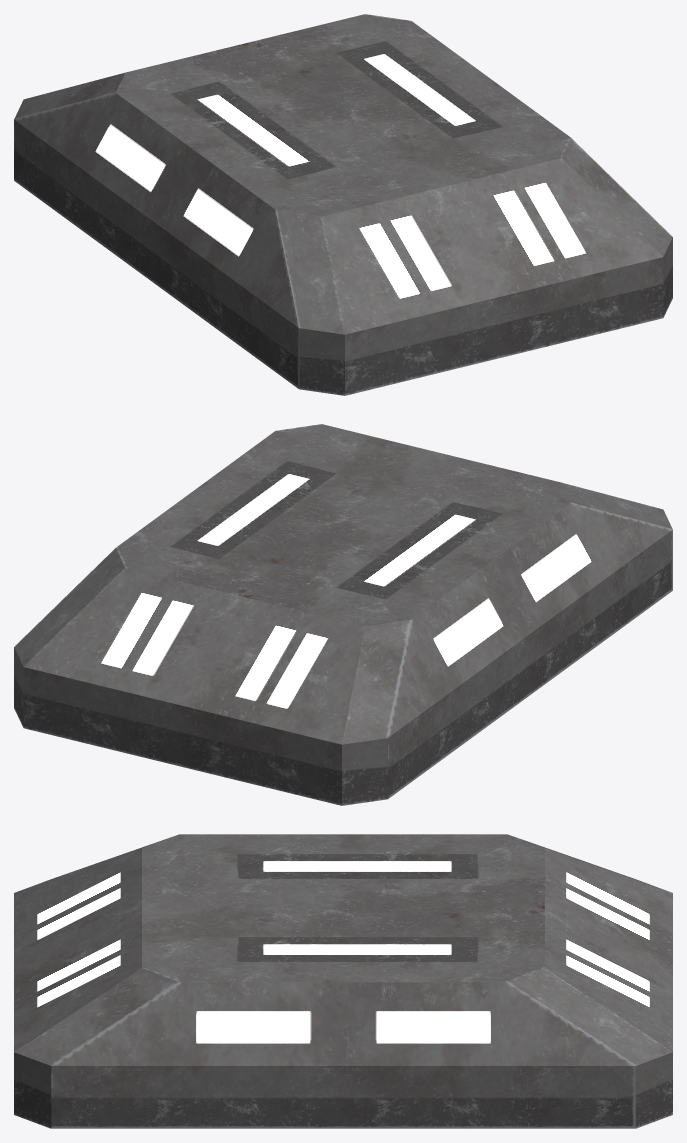
The model's file is platform_m_1.fbx.
The picture shows the model from 3 angles, top to bottom: view 1: azimuth 30°, elevation 25°; view 2: azimuth 150°, elevation 25°; view 3: azimuth 270°, elevation 25°; orthographic projection. The views are drawn at different scales.
Visible parts, largest first — view 1: platform_m_1; view 2: platform_m_1; view 3: platform_m_1.
Part boxes in pixels (<box>): platform_m_1: <box>14,14,672,395</box>; platform_m_1: <box>14,424,672,805</box>; platform_m_1: <box>14,834,672,1128</box>.
Bounding box in the file's own units: 9.17 × 2.91 × 13.65.
